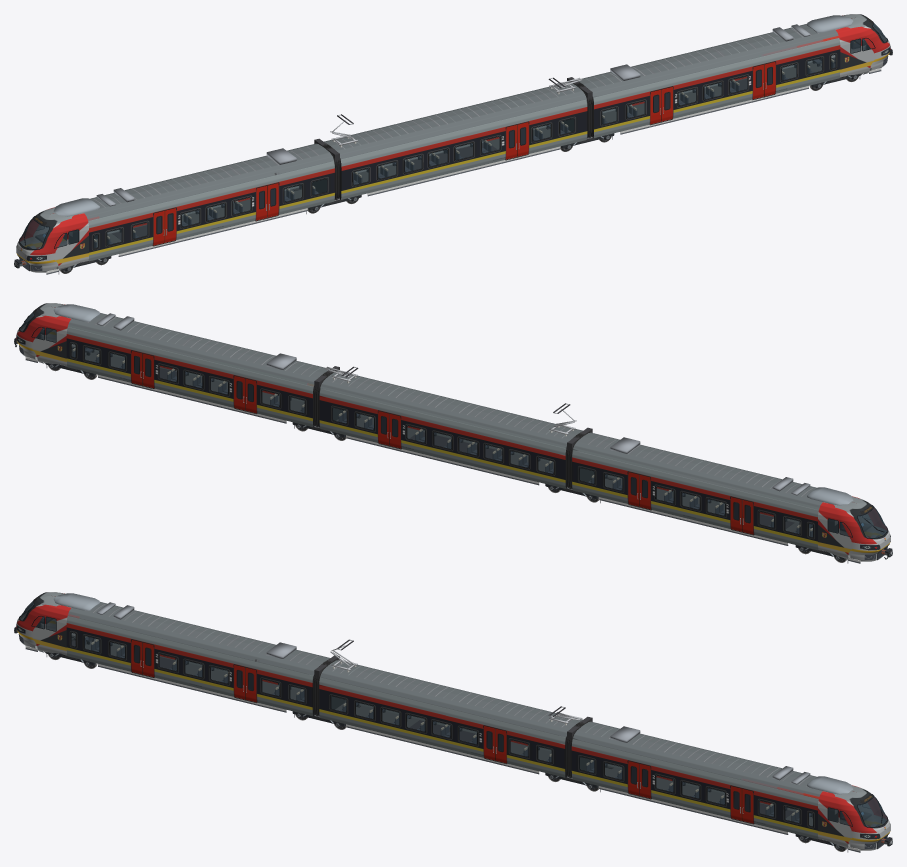
Rendered from FLIRT_KL.glb.
3 renders of one model, top to bottom at view 1: azimuth 30°, elevation 25°; view 2: azimuth 150°, elevation 25°; view 3: azimuth 330°, elevation 25°, orthographic.
Visible parts, largest first — view 1: FK_czlon2, FK_czlon3, FK_czlon1, Szyby boczne i uszczelki, Wnętrze pasażerskie, FK_guma, Poszycie kabiny LKA A, Poszycie kabiny LKA B, FK_fbia, Osprzęt i optyka LKA A, FK_dach, FK_fsza (+2 smaller); view 2: FK_czlon2, FK_czlon3, FK_czlon1, Szyby boczne i uszczelki, Wnętrze pasażerskie, FK_guma, Poszycie kabiny LKA A, Poszycie kabiny LKA B, FK_fbia, Osprzęt i optyka LKA A, FK_dach, FK_fsza (+2 smaller); view 3: FK_czlon2, FK_czlon1, FK_czlon3, Szyby boczne i uszczelki, Wnętrze pasażerskie, FK_guma, Poszycie kabiny LKA B, Poszycie kabiny LKA A, FK_fbia, Osprzęt i optyka LKA B, FK_dach, FK_fsza (+2 smaller).
Boxes of the visible parts, box(x1,y1,x2,y2) form: FK_czlon2: box(324, 82, 587, 199); FK_czlon3: box(577, 24, 840, 138); FK_czlon1: box(84, 143, 335, 261); Szyby boczne i uszczelki: box(93, 54, 835, 248); Wnętrze pasażerskie: box(94, 58, 834, 247); FK_guma: box(92, 53, 836, 249); Poszycie kabiny LKA A: box(16, 207, 88, 272); Poszycie kabiny LKA B: box(831, 14, 890, 77); FK_fbia: box(46, 68, 881, 273); Osprzęt i optyka LKA A: box(14, 198, 99, 271); FK_dach: box(96, 24, 810, 206); FK_fsza: box(46, 70, 881, 274); FK_czlon2: box(319, 371, 582, 488); FK_czlon3: box(66, 313, 329, 427); FK_czlon1: box(572, 432, 822, 550); Szyby boczne i uszczelki: box(71, 343, 813, 537); Wnętrze pasażerskie: box(72, 347, 812, 536); FK_guma: box(70, 342, 814, 538); Poszycie kabiny LKA A: box(818, 496, 890, 561); Poszycie kabiny LKA B: box(16, 303, 75, 366); FK_fbia: box(25, 357, 860, 562); Osprzęt i optyka LKA A: box(807, 487, 892, 560); FK_dach: box(96, 313, 810, 495); FK_fsza: box(25, 359, 860, 563); FK_czlon2: box(319, 660, 582, 777); FK_czlon1: box(66, 602, 330, 716); FK_czlon3: box(571, 721, 822, 839); Szyby boczne i uszczelki: box(71, 632, 813, 826); Wnętrze pasażerskie: box(74, 636, 812, 825); FK_guma: box(70, 631, 814, 827); Poszycie kabiny LKA B: box(818, 785, 890, 850); Poszycie kabiny LKA A: box(16, 592, 87, 655); FK_fbia: box(25, 646, 860, 851); Osprzęt i optyka LKA B: box(807, 776, 892, 849); FK_dach: box(96, 602, 810, 784); FK_fsza: box(25, 648, 860, 852).
Bounding box in the file's own units: 64 × 5.6 × 2.96.
Materials: 59 (13 with a texture image).
